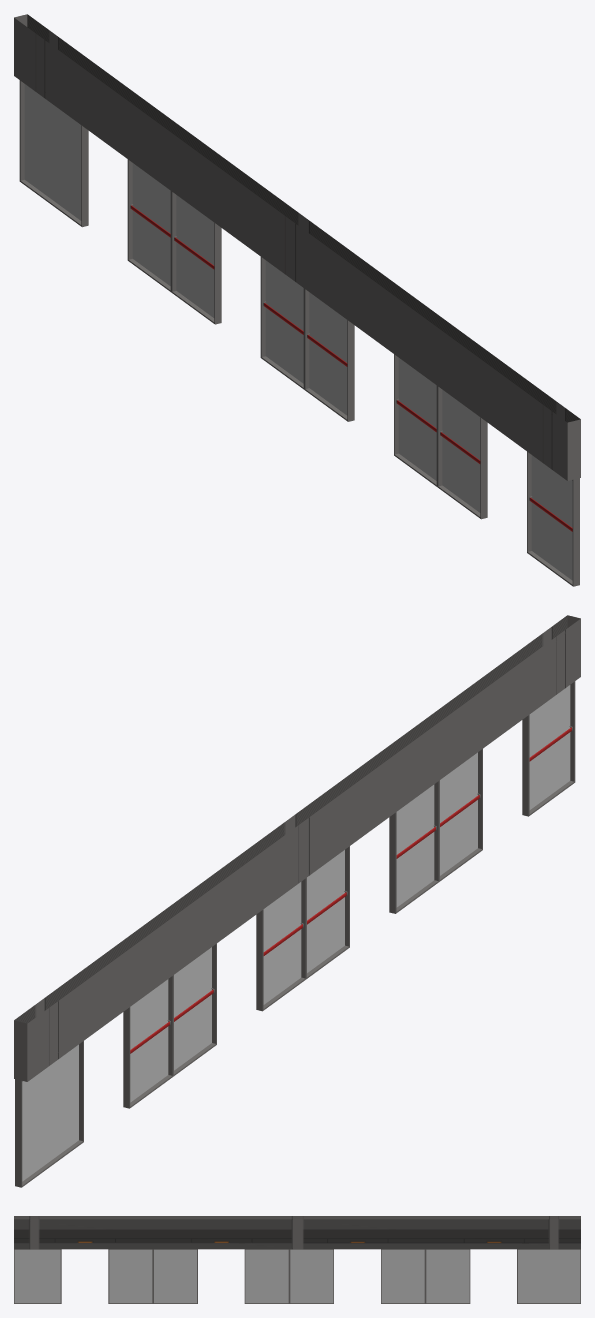
File: Line9_ScreenDoor_Station_B001.FBX
The picture shows the model from 3 angles, top to bottom: view 1: azimuth 30°, elevation 25°; view 2: azimuth 150°, elevation 25°; view 3: azimuth 270°, elevation 25°; orthographic projection. The views are drawn at different scales.
Visible parts, largest first — view 1: Line9_ScreenDoor_Station_B001; view 2: Line9_ScreenDoor_Station_B001; view 3: Line9_ScreenDoor_Station_B001.
Part boxes in pixels (box(x1,y1,x2,y2)): Line9_ScreenDoor_Station_B001: box(14, 14, 580, 586); Line9_ScreenDoor_Station_B001: box(14, 615, 580, 1187); Line9_ScreenDoor_Station_B001: box(14, 1216, 580, 1303).
Bounding box in the file's own units: 29 × 2060 × 340.
